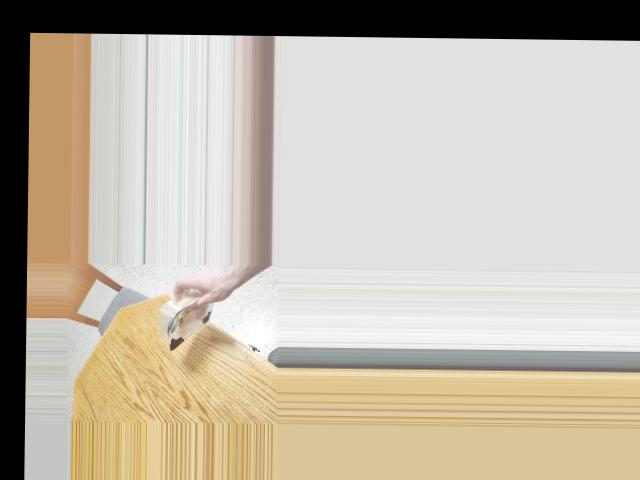cheese: (147, 291, 230, 350)
